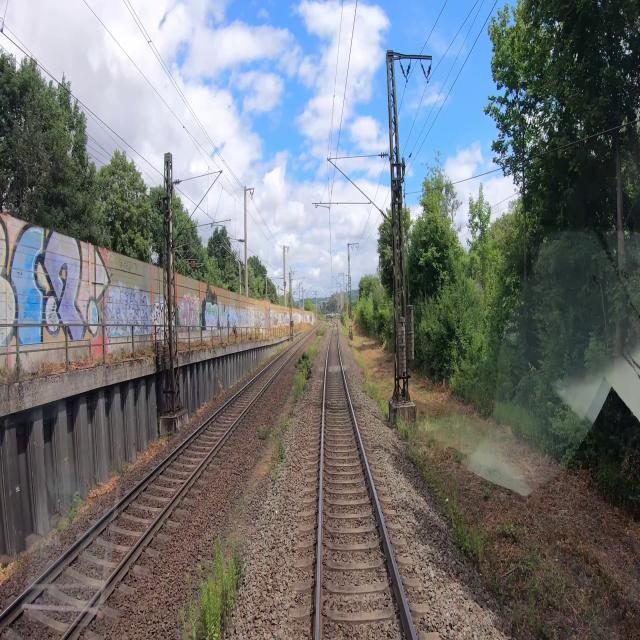Plant: (268, 323, 329, 480), (197, 535, 246, 639), (186, 574, 199, 639), (180, 609, 188, 639), (259, 426, 268, 439)
